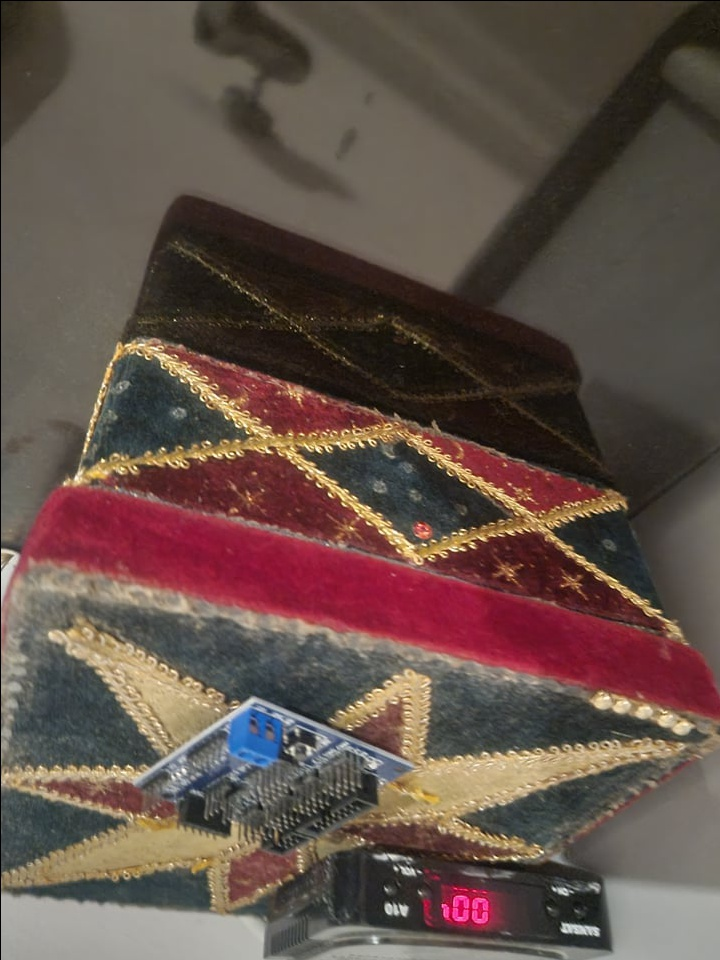5V EXPANSION: (134, 693, 416, 853)
